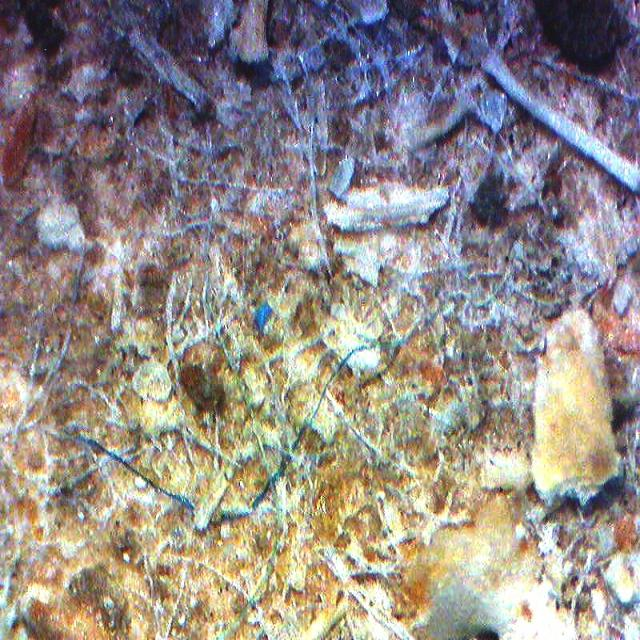microplastic: (75, 313, 437, 522), (254, 300, 272, 335)
